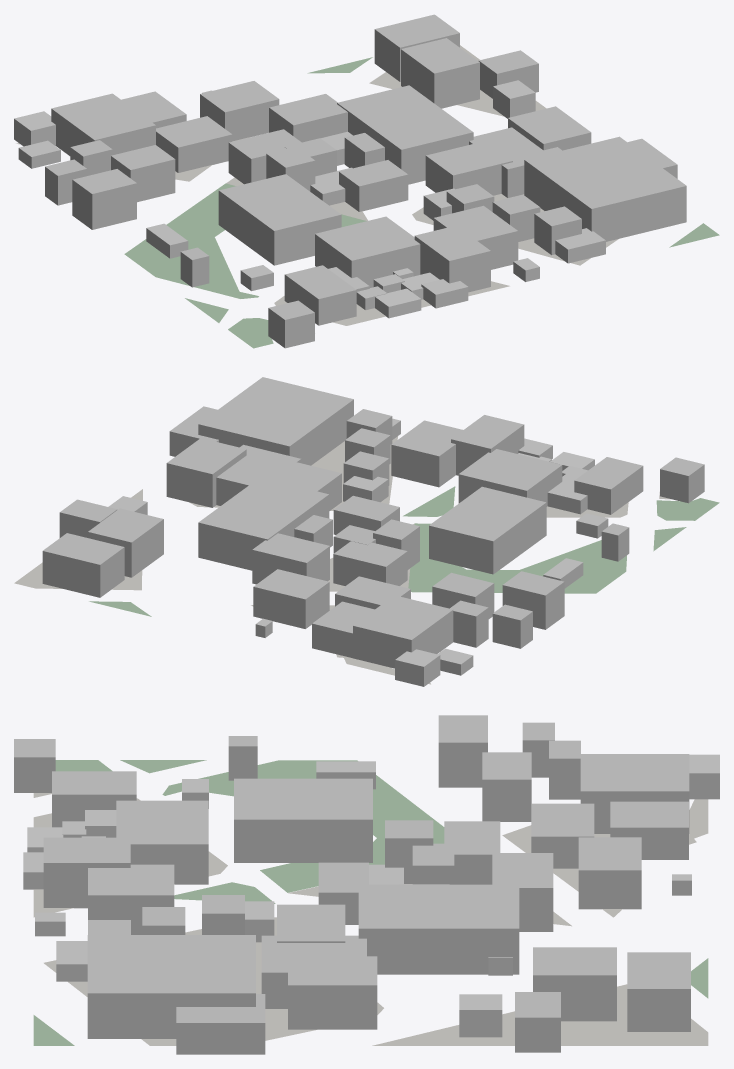
File: 105_107_mid.glb
3 renders of one model, top to bottom at view 1: azimuth 30°, elevation 25°; view 2: azimuth 150°, elevation 25°; view 3: azimuth 270°, elevation 25°, orthographic. The views are drawn at different scales.
Size of the model in its own units: 516 by 37.71 by 523.
